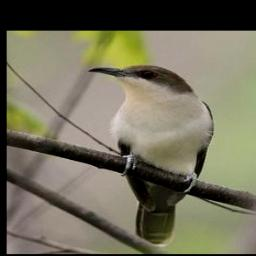Cuckoo: (87, 64, 215, 247)
